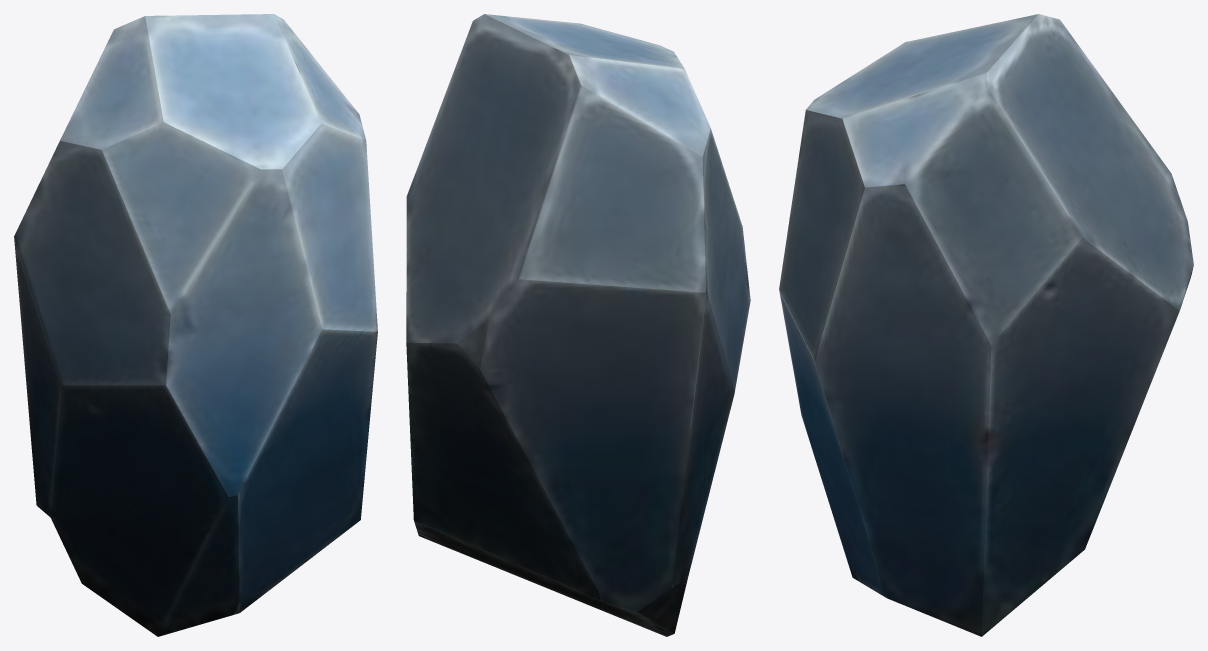
Rendered from rock-large-3.glb.
3 renders of one model, left to right at view 1: azimuth 30°, elevation 25°; view 2: azimuth 150°, elevation 25°; view 3: azimuth 270°, elevation 25°, orthographic. The views are drawn at different scales.
Parts seen in each view (by area): view 1: L_Rock_04_3; view 2: L_Rock_04_3; view 3: L_Rock_04_3.
Part boxes in pixels (left/top/right/bottom): L_Rock_04_3: left=14, top=14, right=377, bottom=636; L_Rock_04_3: left=406, top=14, right=750, bottom=636; L_Rock_04_3: left=779, top=14, right=1193, bottom=636.
Bounding box in the file's own units: 1.37 × 2.5 × 1.56.
1 material, 1 textured.
